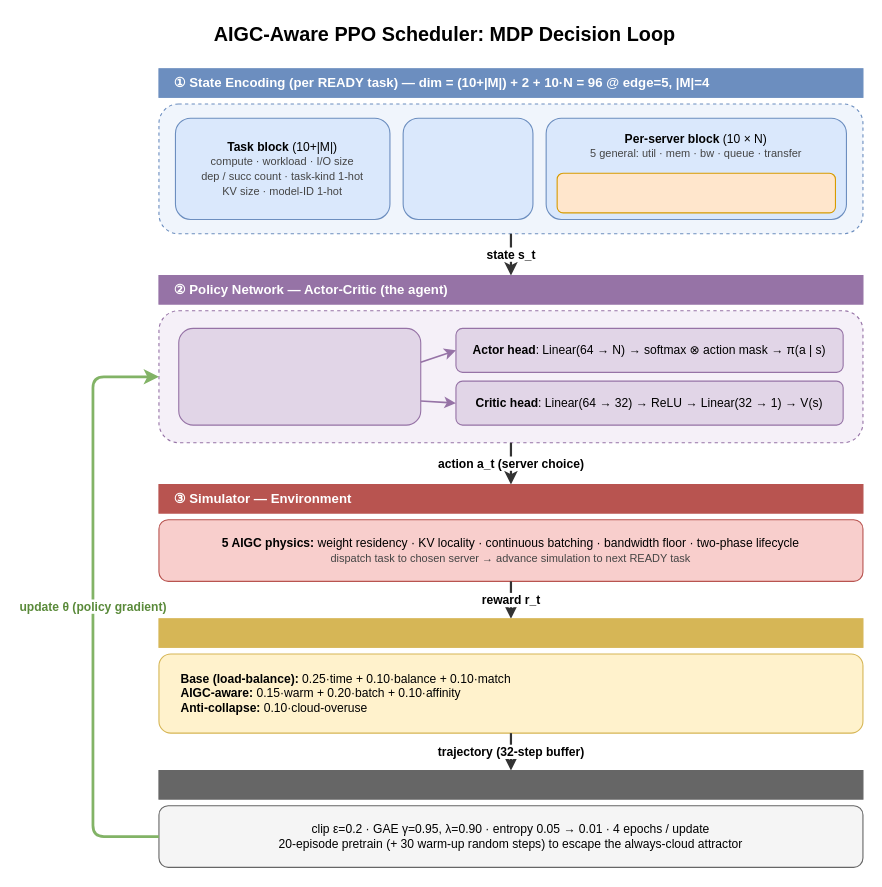
Image size: 882x887. Some labels were removed from this diagram. Each missing label, with the centre of its shape:
"Global (2) READY queue size completed ratio" belongs at (467,168).
"MLP Encoder state → 256 → 128 → 64 (LayerNorm + ReLU)" belongs at (299,376).
"④ Reward — 7-term weighted sum (dense, per decision)" belongs at (510,632).
"⑤ PPO Update" belongs at (510,784).
"★ 5 AIGC features: loaded? · batch-occ · free-VRAM · cold-load · sibling-server" belongs at (695,192).
